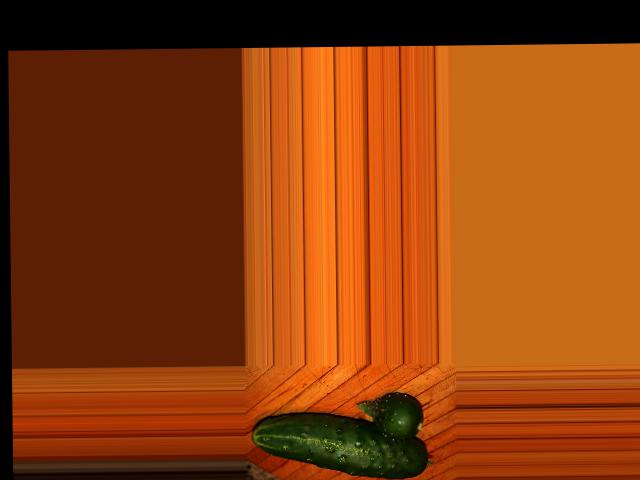cucumber: (251, 411, 428, 480)
